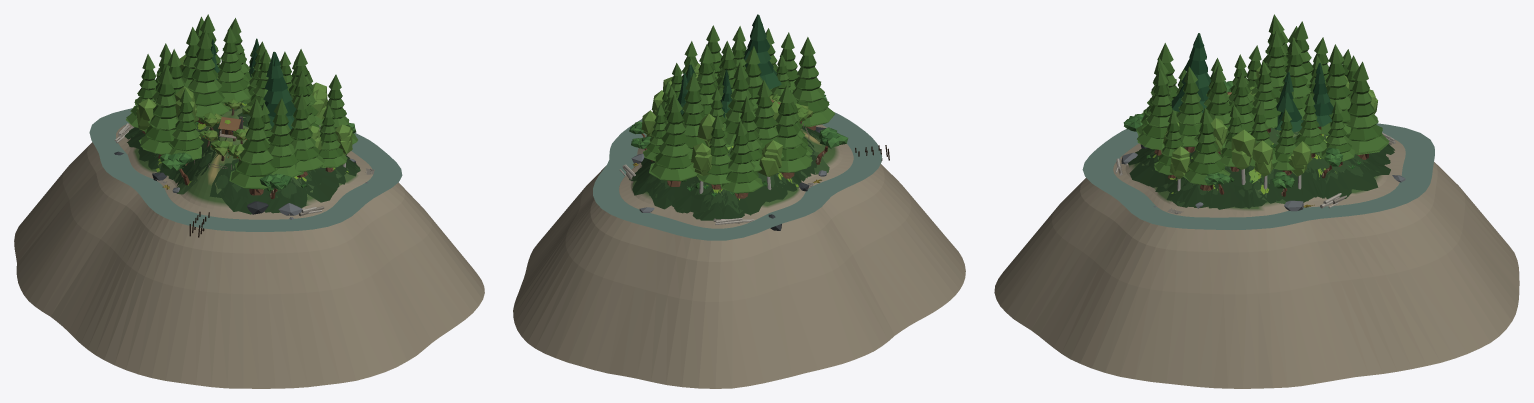
Rendered from chunk_2_0.glb.
The picture shows the model from 3 angles, left to right: view 1: azimuth 30°, elevation 25°; view 2: azimuth 150°, elevation 25°; view 3: azimuth 270°, elevation 25°; orthographic projection. The views are drawn at different scales.
Parts seen in each view (by area): view 1: chunk_2_0; view 2: chunk_2_0; view 3: chunk_2_0.
Boxes of the visible parts, <box> form: chunk_2_0: <box>14,14,484,388</box>; chunk_2_0: <box>513,14,965,388</box>; chunk_2_0: <box>994,14,1519,388</box>.
Size of the model in its own units: 87.75 by 57.3 by 103.
